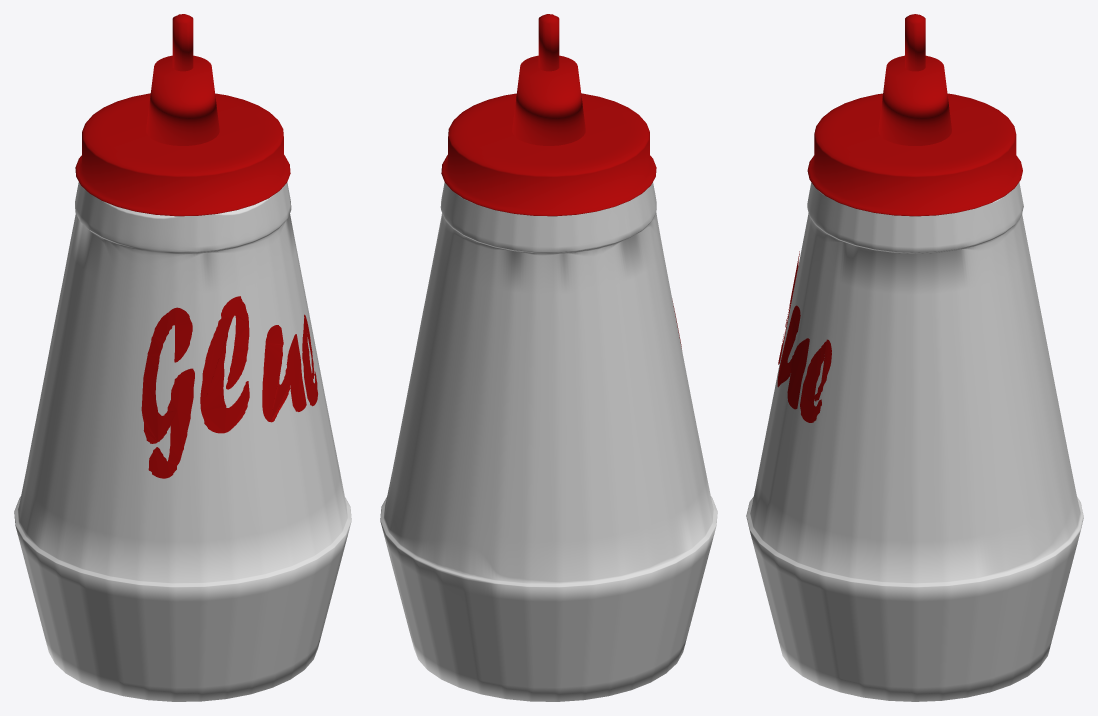
Rendered from Glue.fbx.
3 views of the same model, side by side, from view 1: azimuth 30°, elevation 25°; view 2: azimuth 150°, elevation 25°; view 3: azimuth 270°, elevation 25° (orthographic).
Visible parts, largest first — view 1: Cylinder, Cylinder.001, Text; view 2: Cylinder, Cylinder.001; view 3: Cylinder, Cylinder.001, Text.
Boxes of the visible parts, bbox=[...] form: Cylinder: bbox=[14, 182, 351, 701]; Cylinder.001: bbox=[75, 14, 290, 216]; Text: bbox=[141, 296, 317, 478]; Cylinder: bbox=[380, 182, 717, 701]; Cylinder.001: bbox=[441, 14, 656, 216]; Cylinder: bbox=[746, 182, 1083, 701]; Cylinder.001: bbox=[807, 14, 1022, 216]; Text: bbox=[777, 251, 831, 422].
Size of the model in its own units: 63 by 130 by 62.89.
